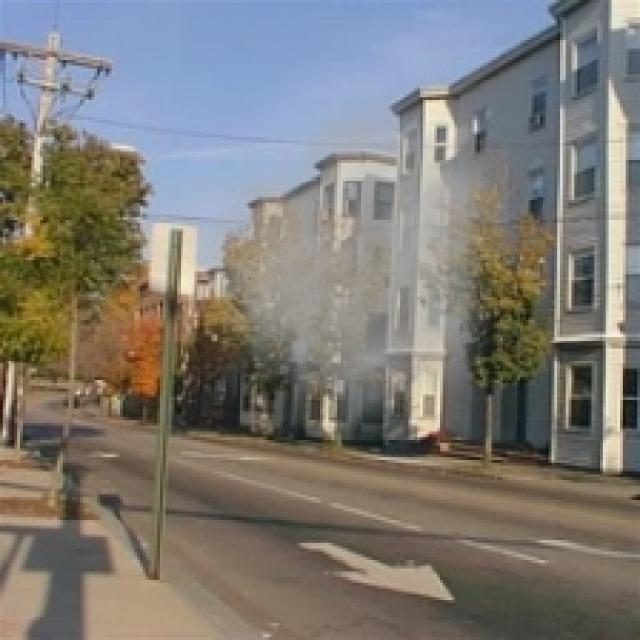smoke: (166, 80, 508, 451)
